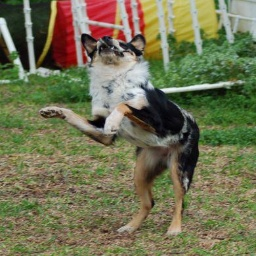dog: (40, 32, 201, 237)
